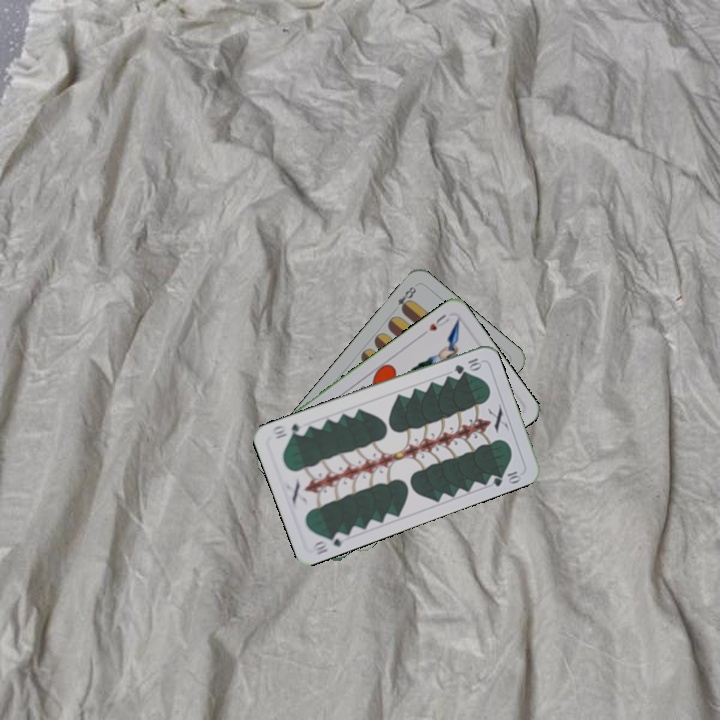E8: (393, 282, 419, 315)
G10: (308, 528, 349, 557), (450, 354, 484, 376)
HU: (424, 310, 452, 333)
